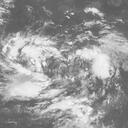cyclone: (4, 35, 121, 116)
